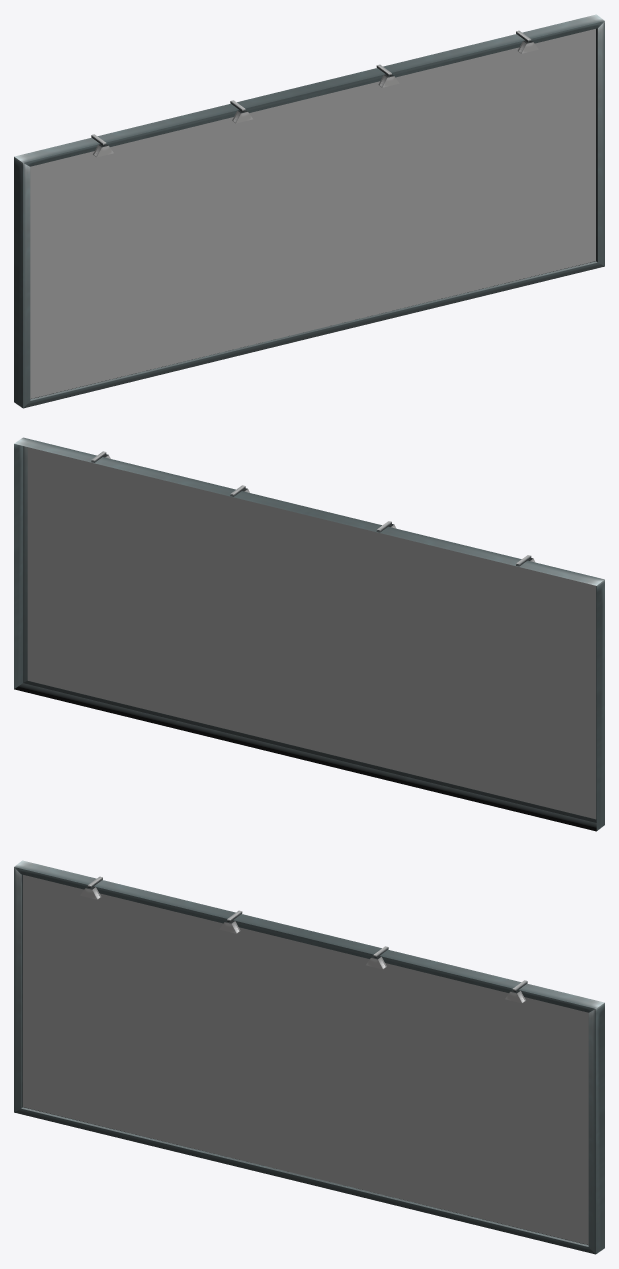
File: ENV_BackSign_Intel_TEX.fbx
3 views of the same model, one above another, from view 1: azimuth 30°, elevation 25°; view 2: azimuth 150°, elevation 25°; view 3: azimuth 330°, elevation 25° (orthographic).
Visible parts, largest first — view 1: ENV_BackSignScreen_geo, ENV_BackSignFrame_geo; view 2: ENV_BackSignScreen_geo, ENV_BackSignFrame_geo; view 3: ENV_BackSignScreen_geo, ENV_BackSignFrame_geo.
Boxes of the visible parts, <box> form: ENV_BackSignScreen_geo: <box>30,29,595,398</box>; ENV_BackSignFrame_geo: <box>14,14,604,408</box>; ENV_BackSignScreen_geo: <box>27,447,595,819</box>; ENV_BackSignFrame_geo: <box>14,437,604,831</box>; ENV_BackSignScreen_geo: <box>23,875,588,1244</box>; ENV_BackSignFrame_geo: <box>14,860,604,1254</box>.
Size of the model in its own units: 623 by 254 by 23.15.
